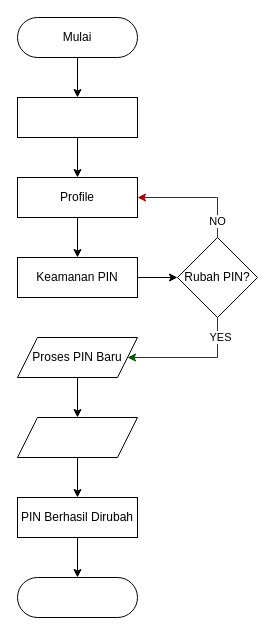
The diagram is 275 pixels wide and 635 high, and some of its shapes have lost their labels. The shapes that lost their labels are listed below. From the top down, each one's centre as x and y in pixels, then its label:
the point at 77,117: Home
the point at 77,437: Vierifikasi PIN
the point at 77,597: Selesai
